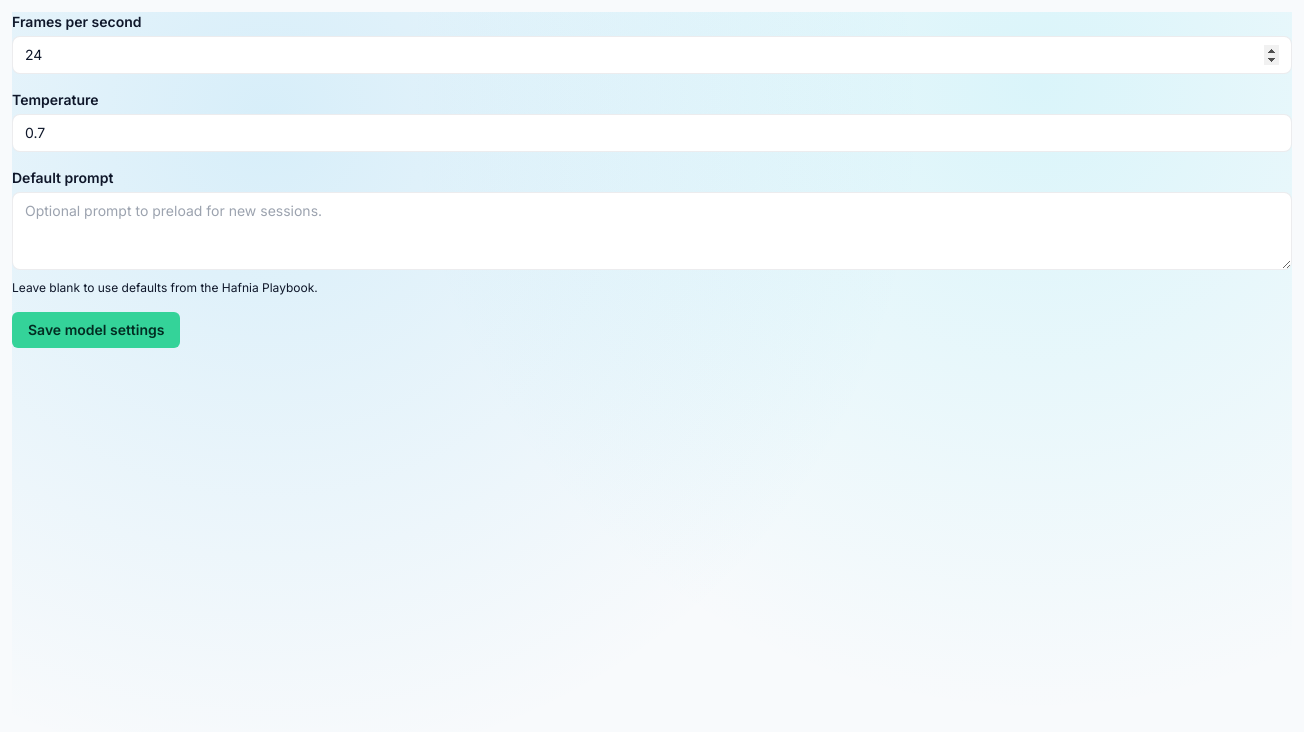
saas-settings ModelParamsForm › rejects_fps_values_outside_supported_range
Replace the text in the number field labelled "Frames per second" with "0": (652, 55) 12,36 -> 1292,74
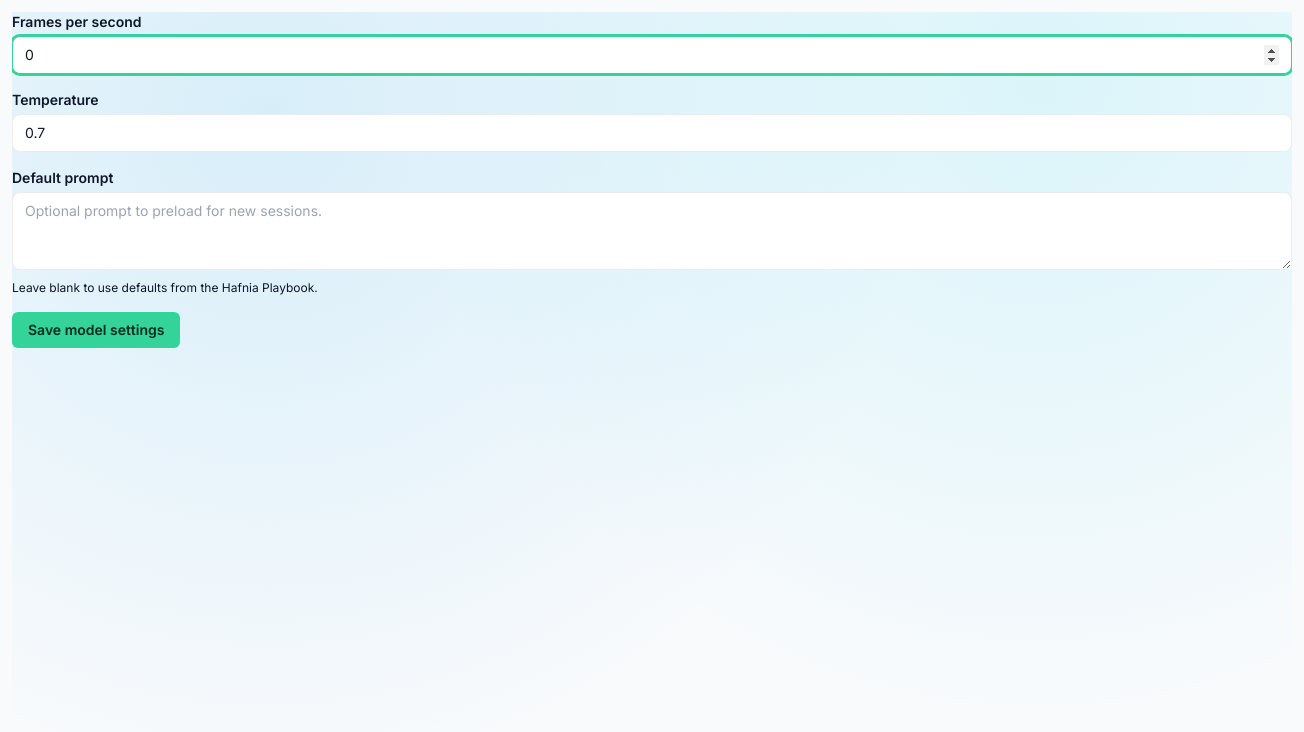
Click the button "Save model settings": (96, 330) 12,312 -> 180,348
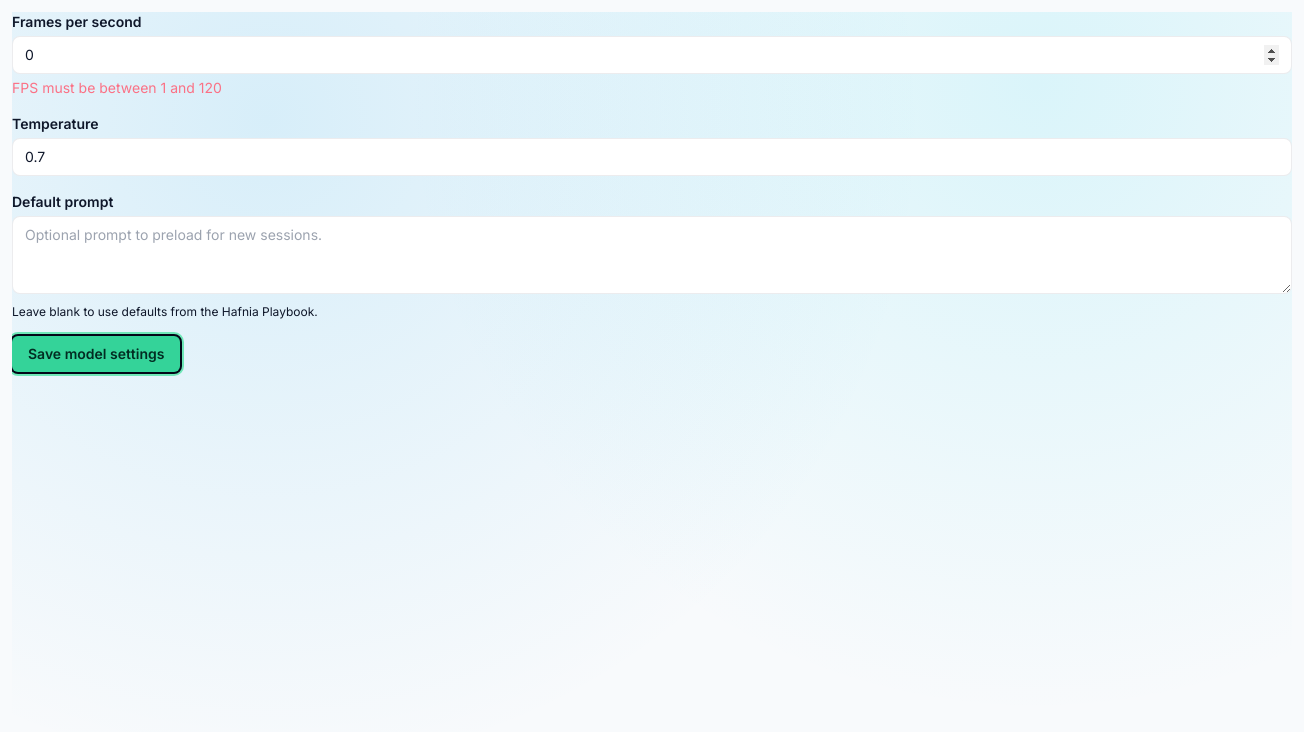
Now the text "FPS must be between 1 and 120" is shown, box 12,79 -> 222,96
